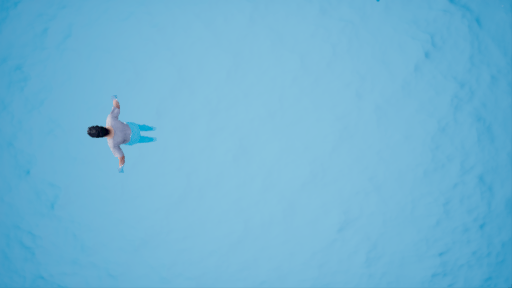person: (93, 95, 151, 171)
